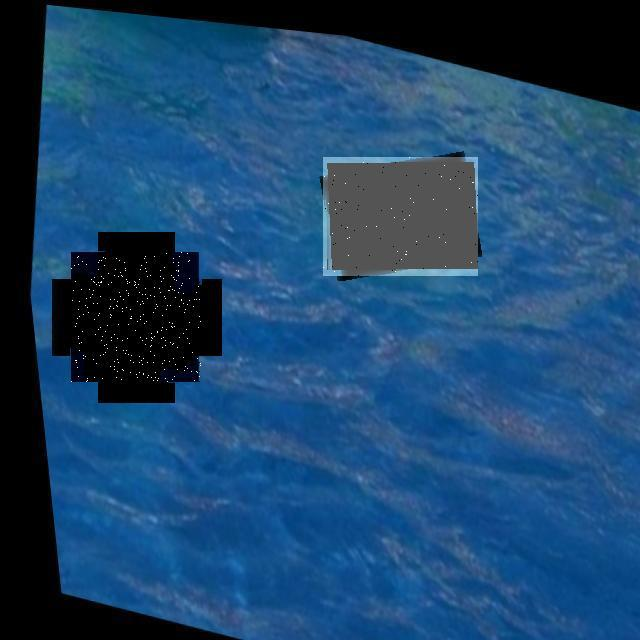swimming: (323, 157, 478, 276), (72, 252, 202, 382)
